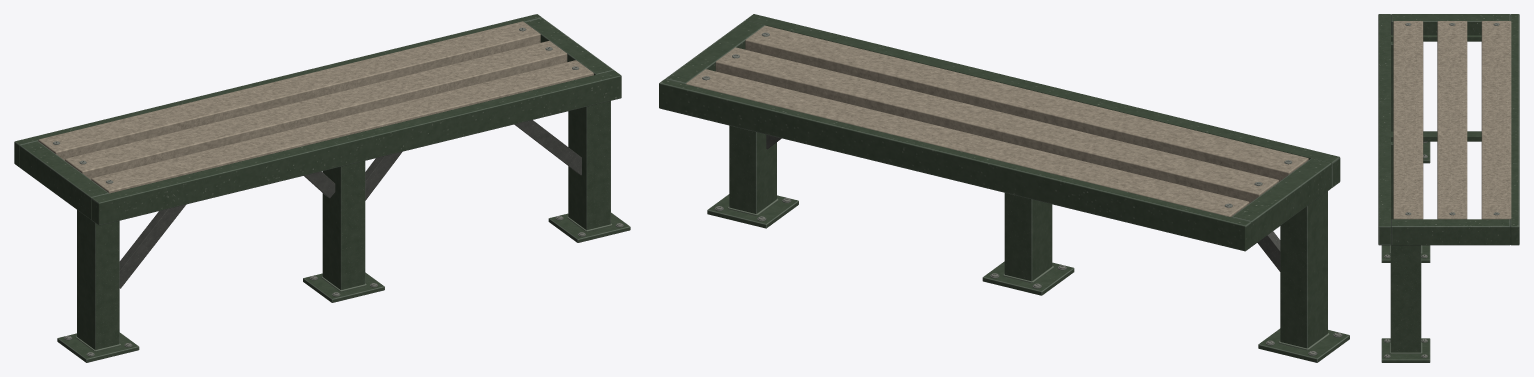
The model's file is shower_bench.glb.
3 renders of one model, left to right at view 1: azimuth 30°, elevation 25°; view 2: azimuth 150°, elevation 25°; view 3: azimuth 270°, elevation 25°, orthographic. The views are drawn at different scales.
Visible parts, largest first — view 1: SeatPerimeterFrame, SeatSlat_02, SeatSlat_03, SeatSlat_01, SupportPost_01, SupportPost_02, SupportPost_03, DiagonalSteelBraces, AnchorBasePlate_01, AnchorBasePlate_02, AnchorBasePlate_03; view 2: SeatPerimeterFrame, SeatSlat_01, SeatSlat_02, SeatSlat_03, SupportPost_01, SupportPost_02, SupportPost_03, AnchorBasePlate_02, AnchorBasePlate_01, AnchorBasePlate_03, DiagonalSteelBraces; view 3: SeatPerimeterFrame, SeatSlat_02, SeatSlat_01, SeatSlat_03, SupportPost_03, AnchorBasePlate_03, UndersideSeatBearers, AnchorBasePlate_02, SupportPost_01, SupportPost_02, AnchorBasePlate_01, PostBaseWelds.
Boxes of the visible parts, <box> form: SeatPerimeterFrame: <box>14,14,621,225</box>; SeatSlat_02: <box>65,40,567,179</box>; SeatSlat_03: <box>38,21,540,160</box>; SeatSlat_01: <box>91,60,593,193</box>; SupportPost_01: <box>77,210,119,349</box>; SupportPost_02: <box>322,161,365,289</box>; SupportPost_03: <box>568,101,610,230</box>; DiagonalSteelBraces: <box>119,120,581,288</box>; AnchorBasePlate_01: <box>57,332,139,362</box>; AnchorBasePlate_02: <box>303,272,384,302</box>; AnchorBasePlate_03: <box>548,212,630,242</box>; SeatPerimeterFrame: <box>659,14,1340,251</box>; SeatSlat_01: <box>745,25,1308,181</box>; SeatSlat_02: <box>715,47,1278,203</box>; SeatSlat_03: <box>686,69,1249,216</box>; SupportPost_01: <box>1280,191,1327,348</box>; SupportPost_02: <box>1004,193,1052,281</box>; SupportPost_03: <box>729,125,776,213</box>; AnchorBasePlate_02: <box>982,261,1074,295</box>; AnchorBasePlate_01: <box>1258,328,1349,362</box>; AnchorBasePlate_03: <box>707,194,798,228</box>; DiagonalSteelBraces: <box>766,134,1280,271</box>; SeatPerimeterFrame: <box>1378,14,1519,245</box>; SeatSlat_02: <box>1437,21,1467,219</box>; SeatSlat_01: <box>1393,21,1423,219</box>; SeatSlat_03: <box>1481,21,1511,219</box>; SupportPost_03: <box>1390,245,1421,352</box>; AnchorBasePlate_03: <box>1381,338,1430,362</box>; UndersideSeatBearers: <box>1391,35,1481,141</box>; AnchorBasePlate_02: <box>1381,245,1430,262</box>; SupportPost_01: <box>1391,41,1393,131</box>; SupportPost_02: <box>1391,141,1393,219</box>; AnchorBasePlate_01: <box>1423,141,1430,163</box>; PostBaseWelds: <box>1389,245,1422,353</box>.
Size of the model in its own units: 3.23 by 0.9104 by 0.869.
Materials: 23 (19 with a texture image).
